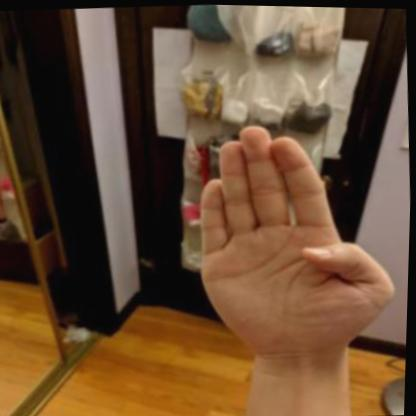B: (177, 108, 414, 370)
